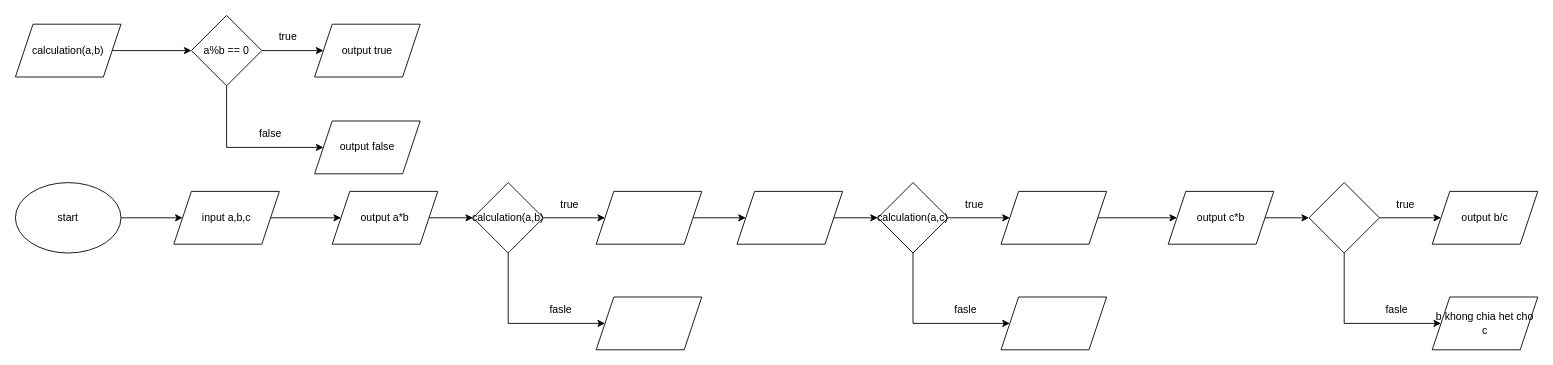
Some shapes in this 1553 by 365 pixel diagram are drawn without their labels. Each missing label, with the centre of its shape:
c khong chia het cho a: point 1053,323
calculation(b,c): point 1343,217
output a / b: point 648,217
output a /c: point 1053,217
output a khong chia het cho b: point 648,323
output a*c: point 789,217
